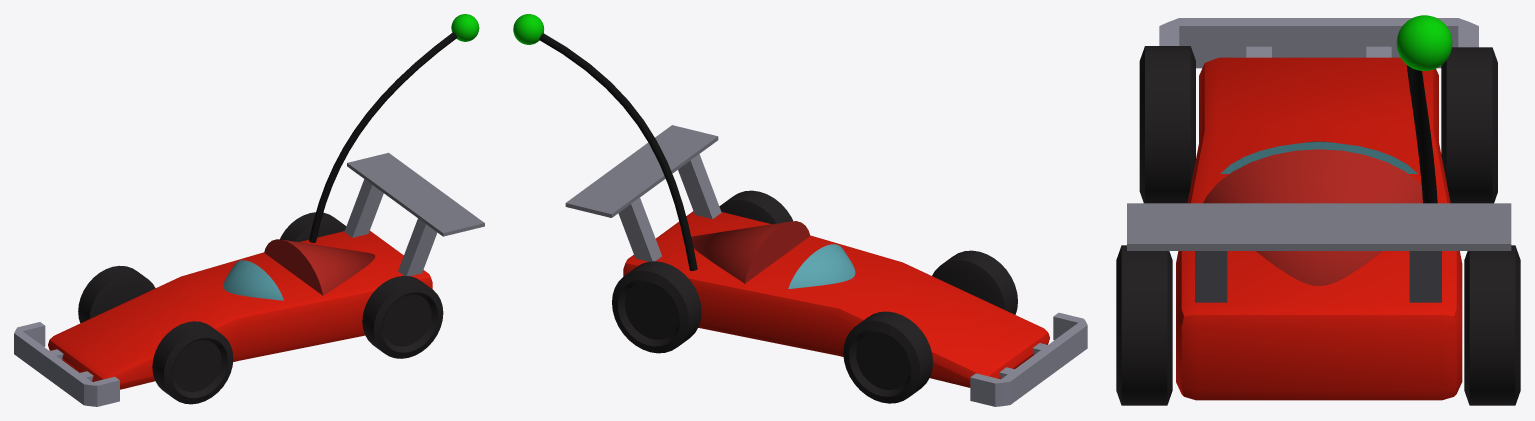
Rendered from kauko-ohjattava_auto1.fbx.
3 renders of one model, left to right at view 1: azimuth 30°, elevation 25°; view 2: azimuth 150°, elevation 25°; view 3: azimuth 270°, elevation 25°, orthographic. The views are drawn at different scales.
Parts seen in each view (by area): view 1: valmis auto; view 2: valmis auto; view 3: valmis auto.
Boxes of the visible parts, left/top/right/bottom form: valmis auto: left=14, top=14, right=484, bottom=406; valmis auto: left=513, top=14, right=1087, bottom=406; valmis auto: left=1116, top=15, right=1520, bottom=405.
Size of the model in its own units: 52.35 by 28.03 by 20.16.
